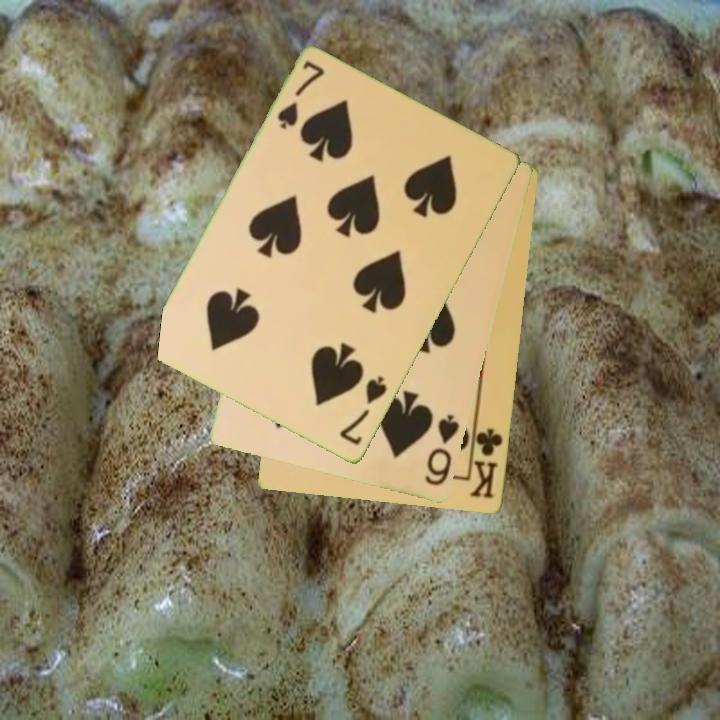6s: (421, 411, 463, 490)
7s: (336, 372, 391, 449), (273, 57, 328, 133)
Kc: (467, 418, 506, 502)
